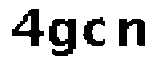4: (7, 5, 48, 49)
c: (79, 16, 110, 52)
g: (47, 13, 79, 60)
n: (116, 14, 150, 52)
